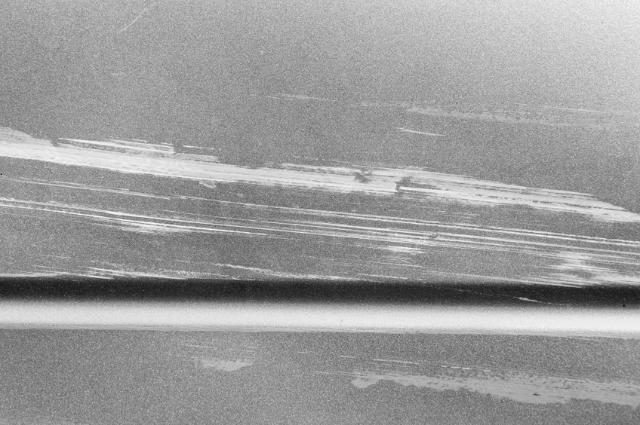Door: (0, 48, 640, 425)
